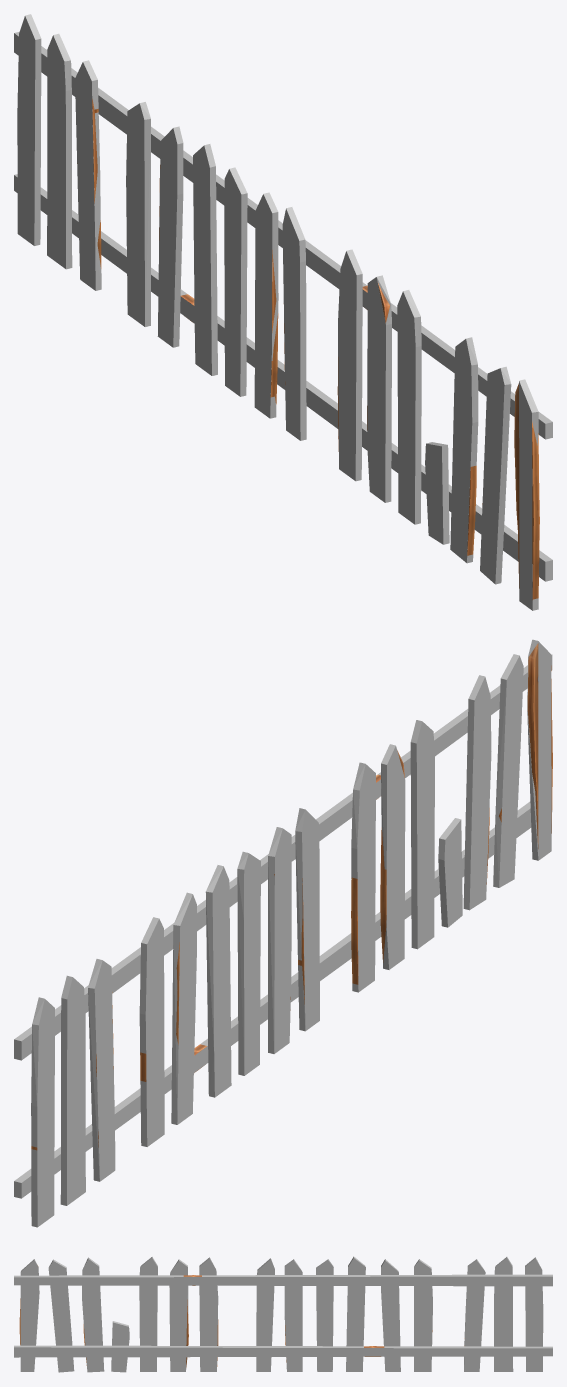
File: SM_Fences02_4.fbx
3 views of the same model, one above another, from view 1: azimuth 30°, elevation 25°; view 2: azimuth 150°, elevation 25°; view 3: azimuth 270°, elevation 25° (orthographic). The views are drawn at different scales.
Visible parts, largest first — view 1: SM_Fences02_4_ConvexHulls, SM_Fences02_4; view 2: SM_Fences02_4_ConvexHulls, SM_Fences02_4; view 3: SM_Fences02_4_ConvexHulls, SM_Fences02_4.
Part boxes in pixels (x1,y1,x2,y2): SM_Fences02_4_ConvexHulls: (14,14,552,610); SM_Fences02_4: (77,99,539,599); SM_Fences02_4_ConvexHulls: (14,639,552,1227); SM_Fences02_4: (31,643,552,1150); SM_Fences02_4_ConvexHulls: (14,1256,552,1372); SM_Fences02_4: (19,1266,464,1367).
Bounding box in the file's own units: 7.87 × 527 × 124.
Materials: 2 (1 with a texture image).
